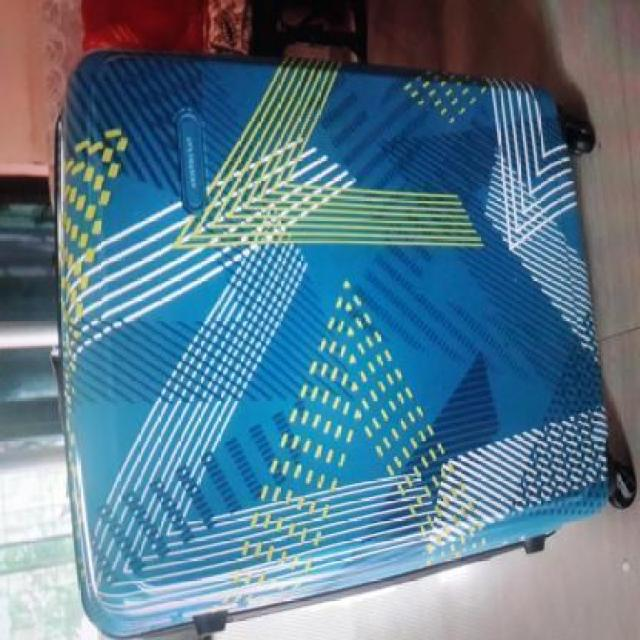backpack: (41, 43, 640, 640)
